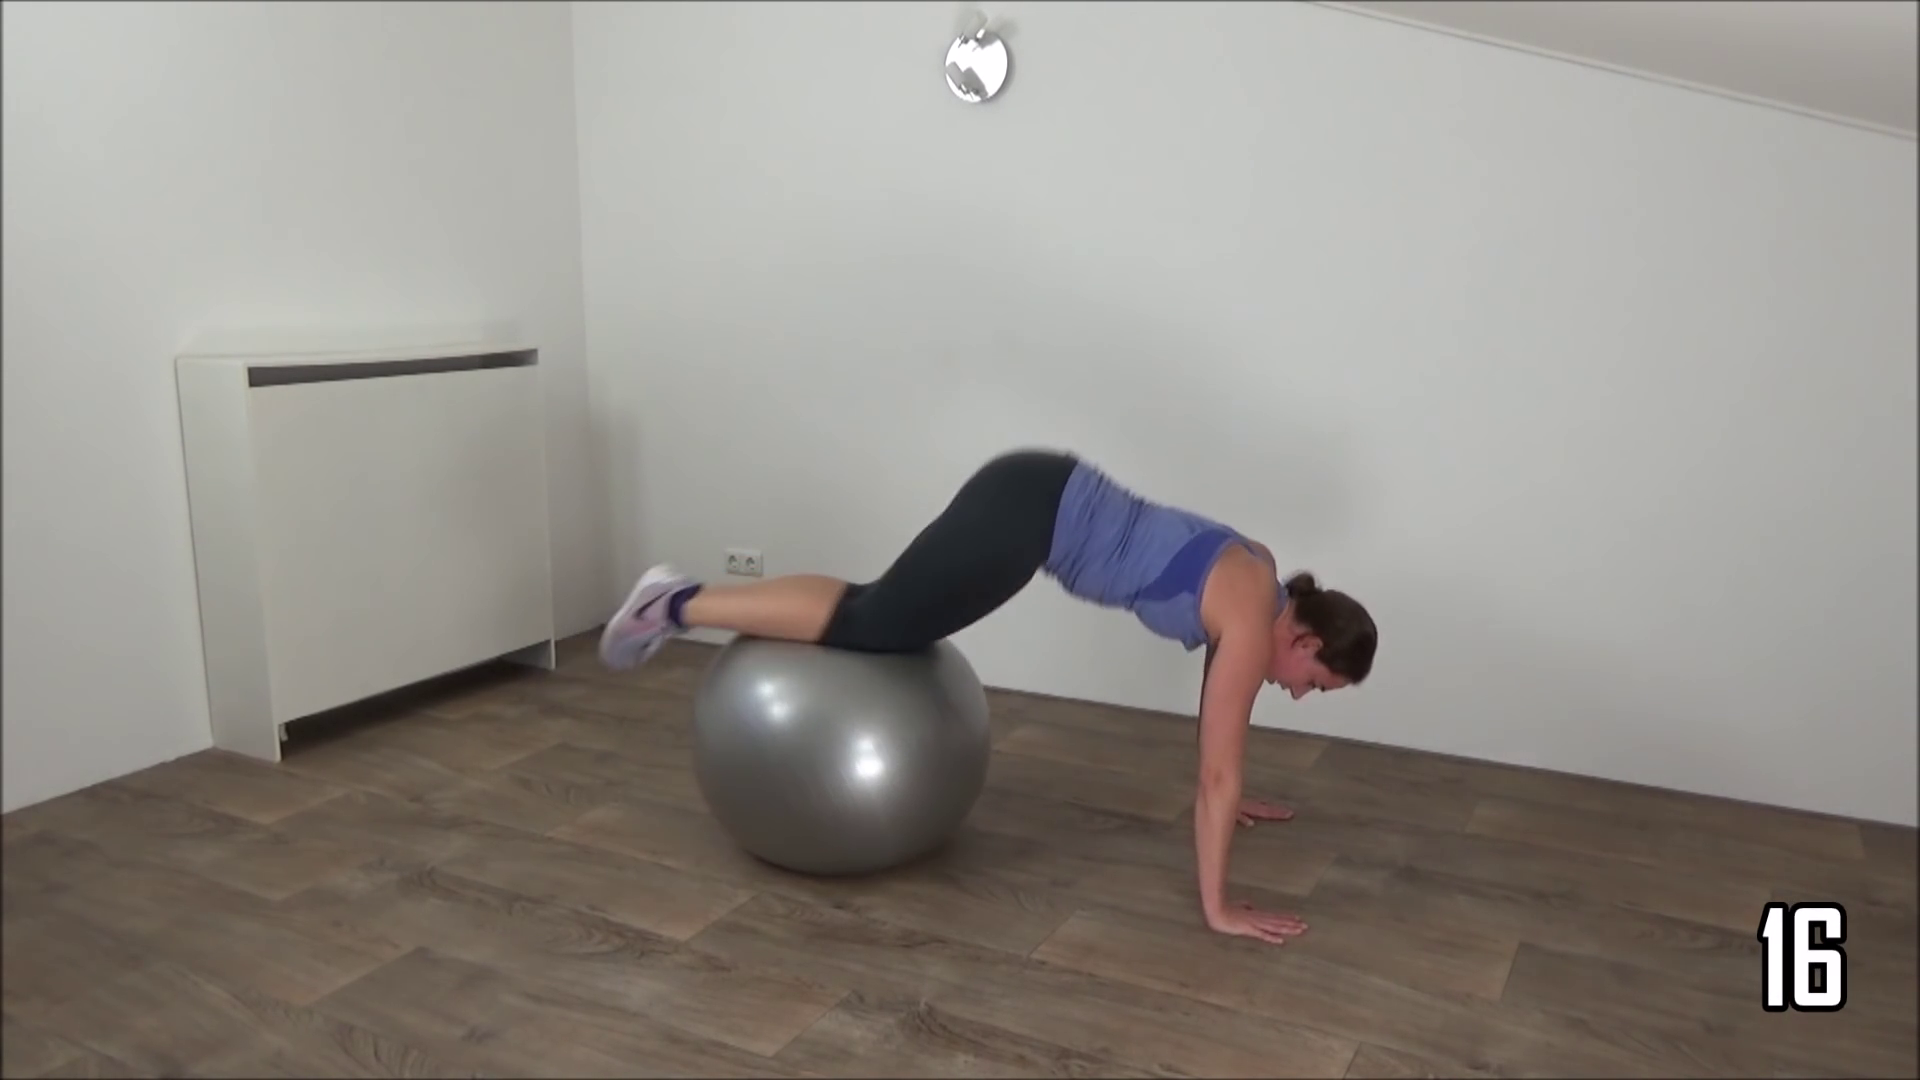yogaball: (669, 608, 1000, 884)
